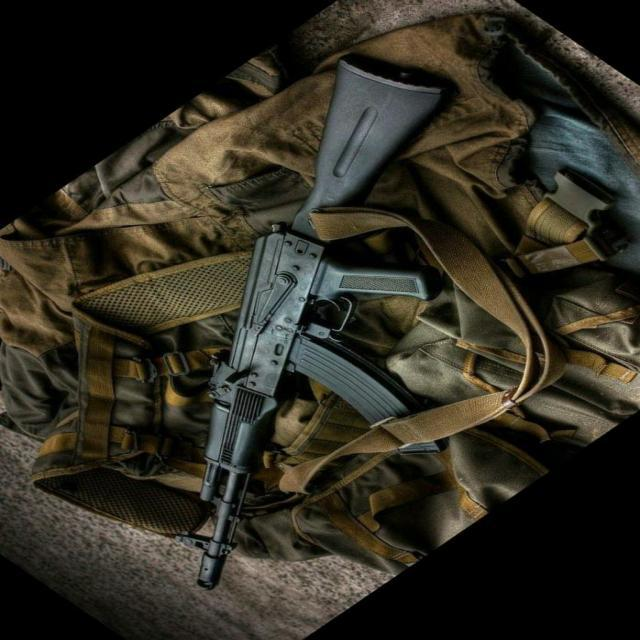weapon: (190, 52, 456, 590)
